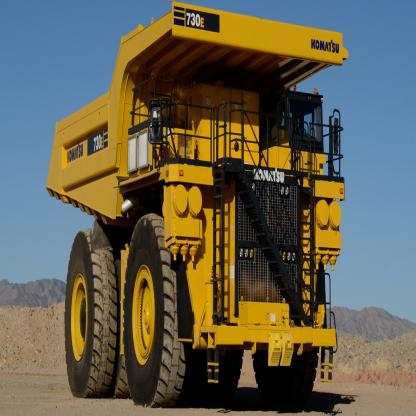bull_dozer/loader/grader: (14, 36, 221, 290)
